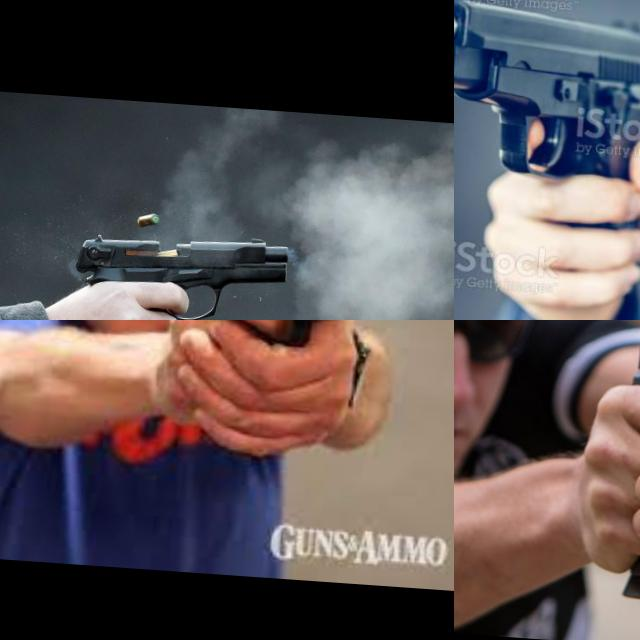handgun: (454, 0, 640, 192), (69, 223, 293, 320), (213, 320, 370, 399)
